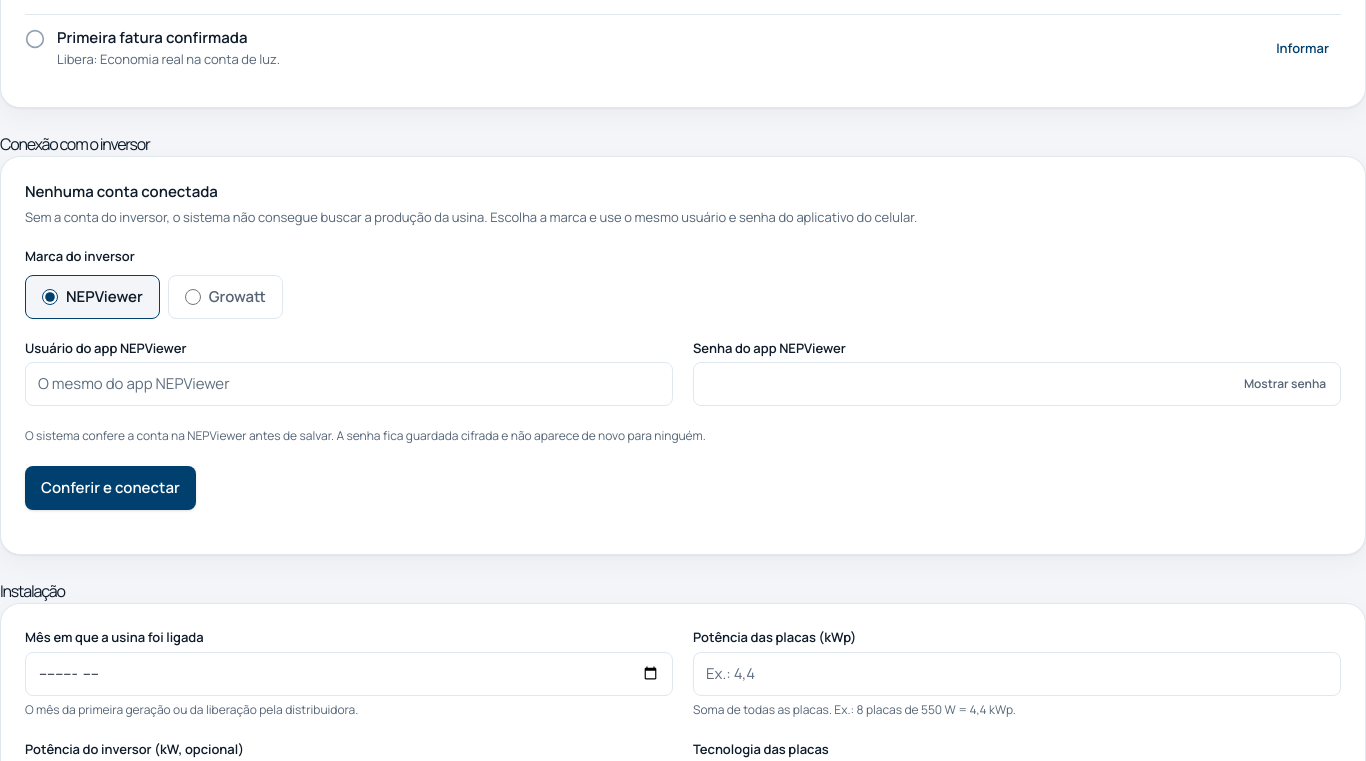
Test: PlantSetupPage — conexão com o inversor (ADR-091) › traduz o erro 409 (provider_account_in_use)
(page scrolled)
Expected: the text "Nenhuma conta conectada" is shown, [25,181,218,202]
Type "a@b.c" into the field labelled "Usuário do app NEPViewer" at (349, 384), box [25,362,673,406]
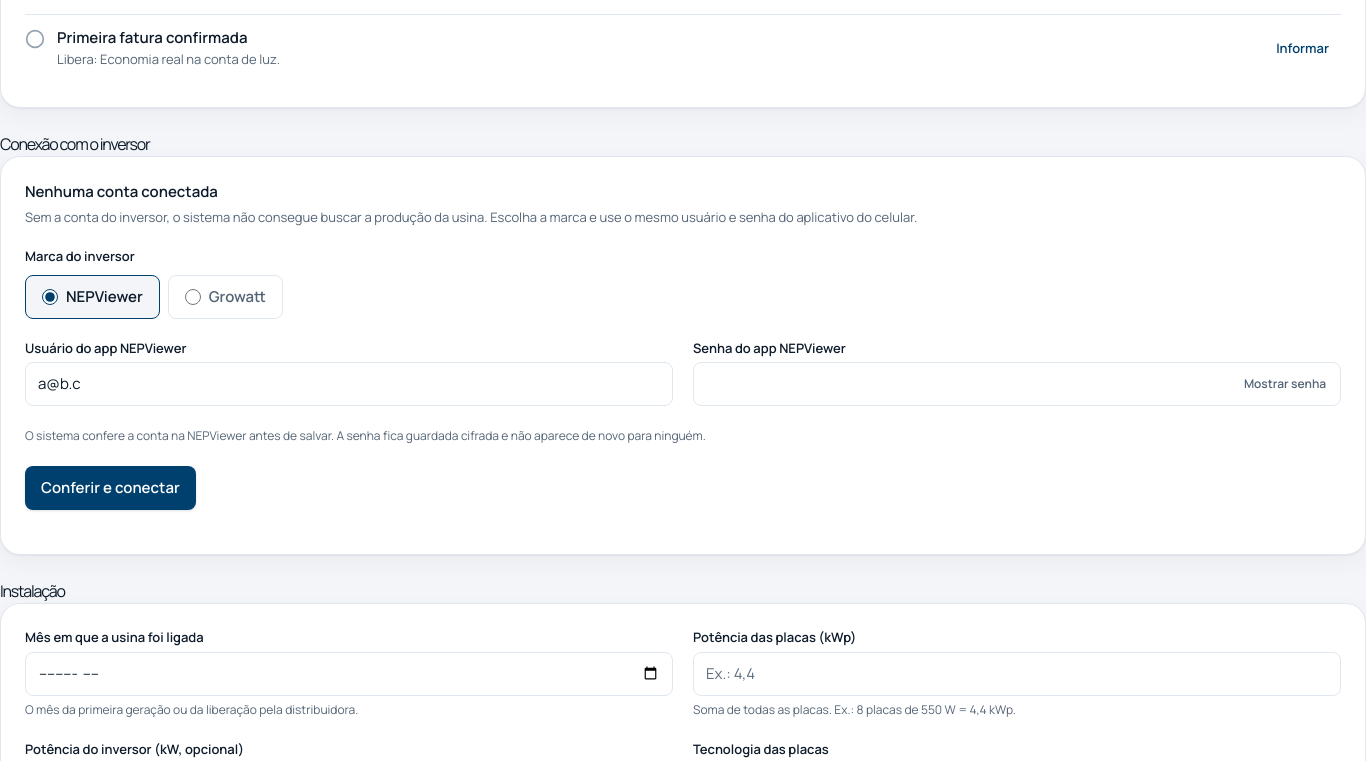
Type "x" into the password field labelled "Senha do app NEPViewer" at (1017, 384), box [693,362,1341,406]
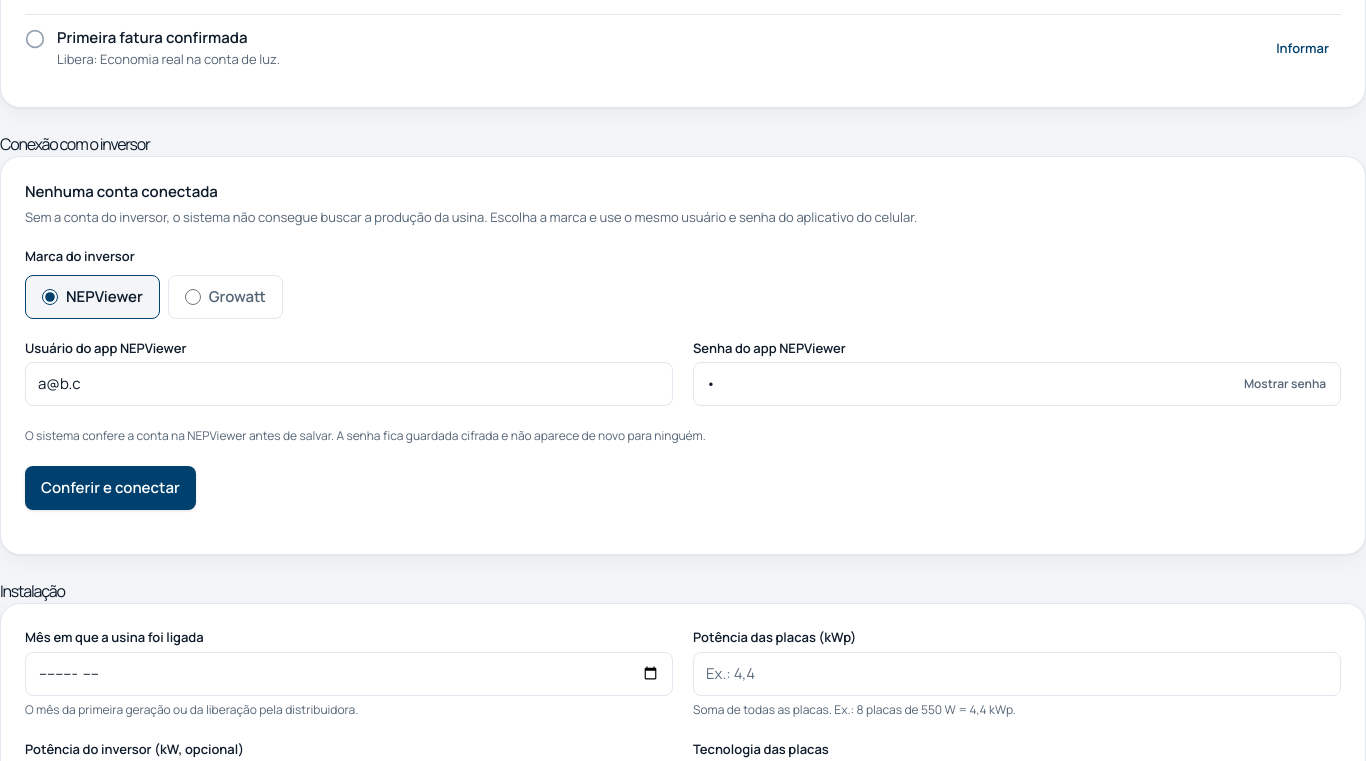
Click the button "Conferir e conectar" at (110, 488), box [25,466,196,510]
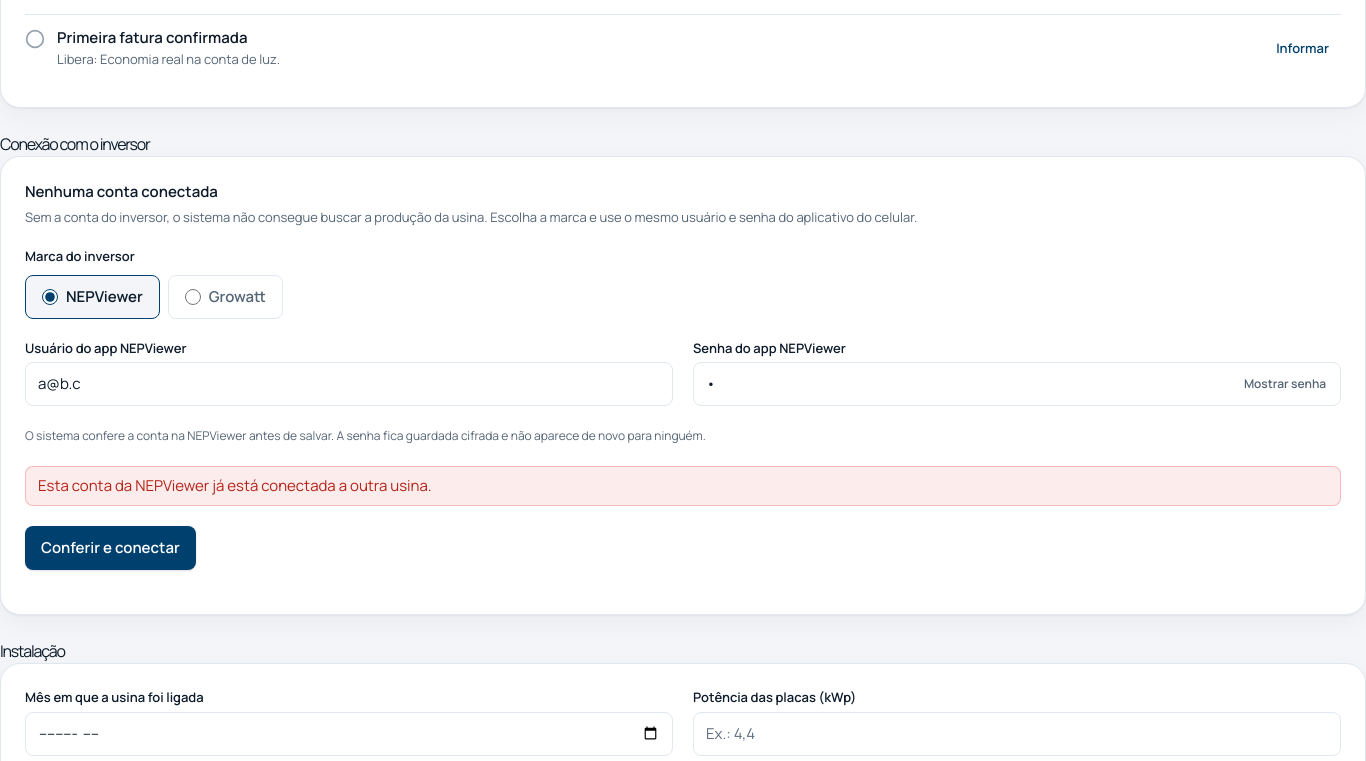
Result: the message reads "Esta conta da NEPViewer já está conectada a outra usina." at [38,475,432,496]
